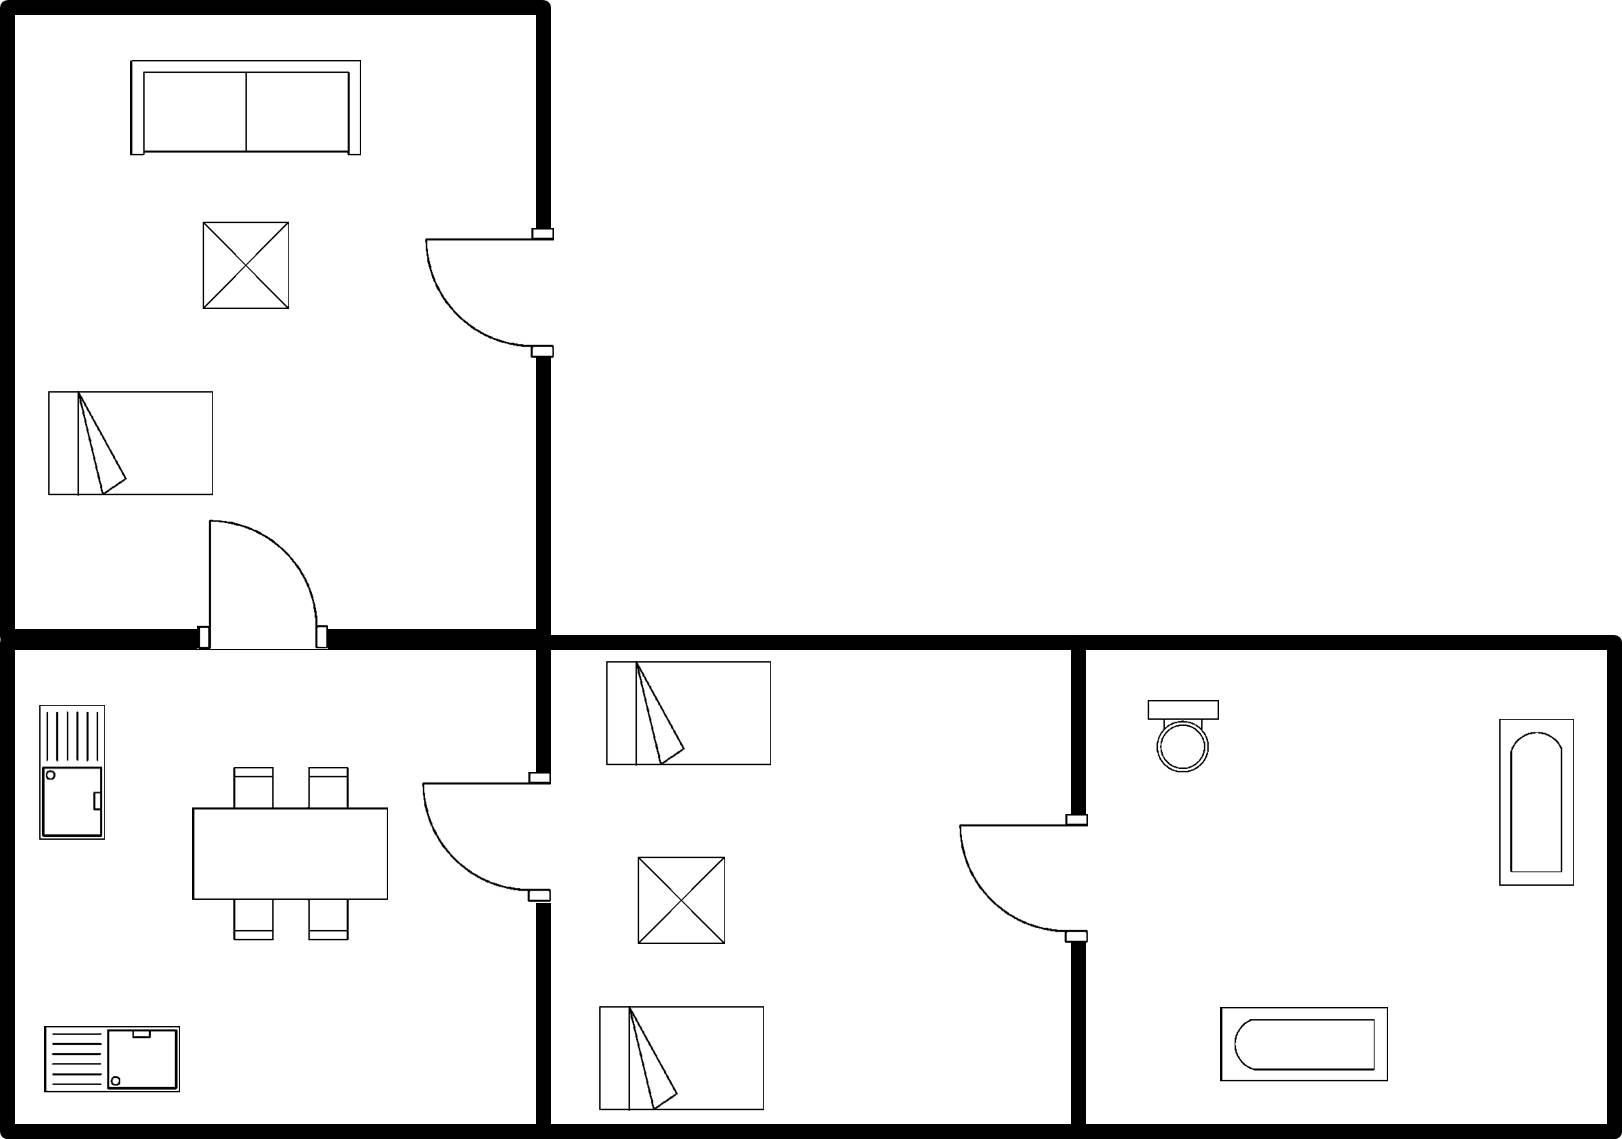bed: (597, 653, 781, 773), (38, 380, 219, 500), (589, 997, 775, 1114)
dining_table: (180, 757, 398, 950)
sink: (36, 1014, 192, 1100), (30, 698, 113, 846)
sofa: (121, 51, 365, 165)
toilet: (1134, 689, 1223, 782)
tub: (1210, 998, 1398, 1091), (1490, 711, 1584, 892)
